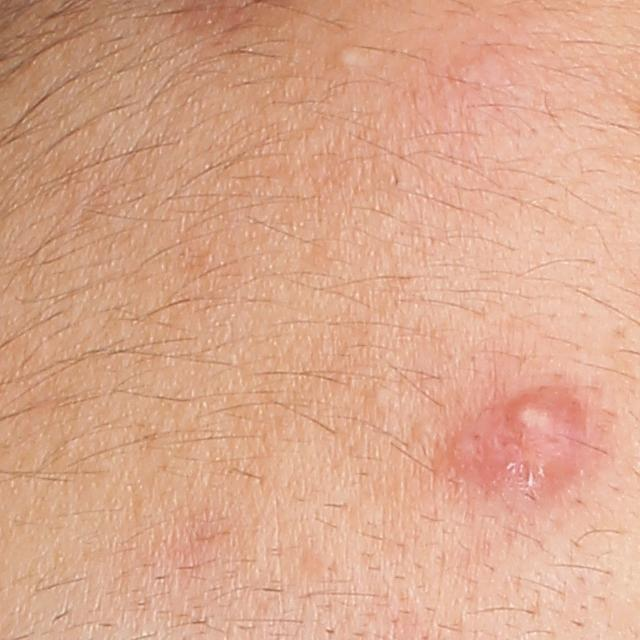comedo: (334, 44, 370, 73), (365, 380, 393, 410)
pustule: (512, 384, 593, 483)
